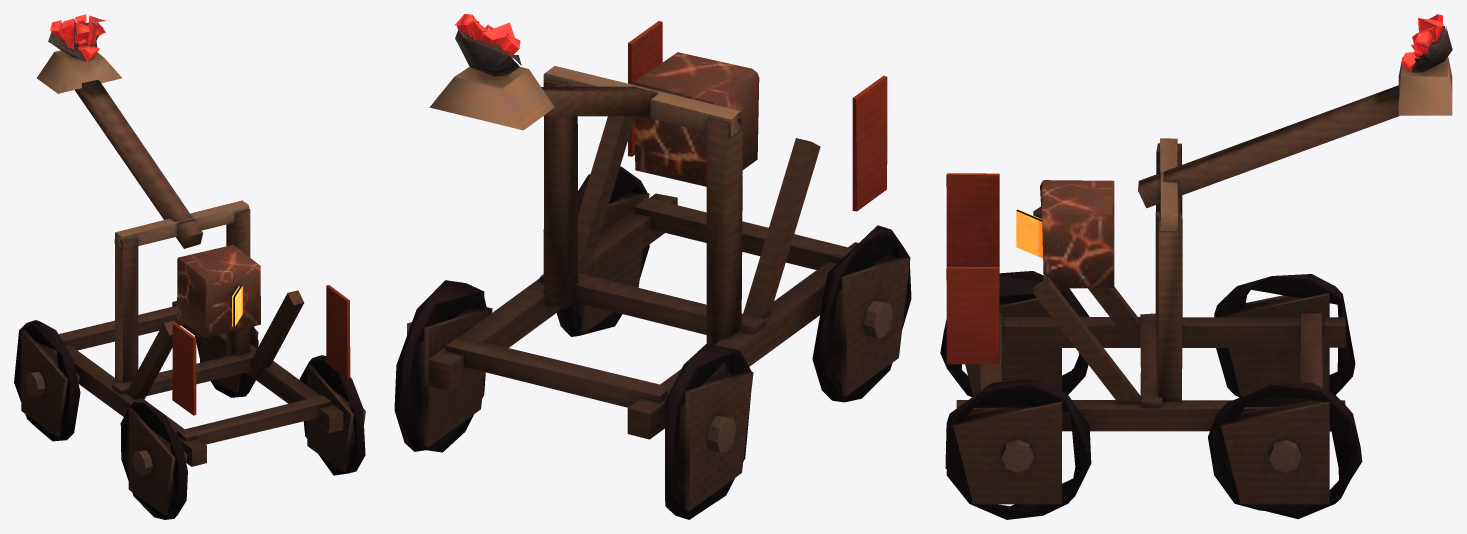
The model's file is u_catapult_x_g.glb.
The picture shows the model from 3 angles, left to right: view 1: azimuth 30°, elevation 25°; view 2: azimuth 150°, elevation 25°; view 3: azimuth 270°, elevation 25°; orthographic projection. The views are drawn at different scales.
Parts seen in each view (by area): view 1: u_catapult_x; view 2: u_catapult_x; view 3: u_catapult_x.
Part boxes in pixels (left/top/right/bottom): u_catapult_x: left=14, top=14, right=365, bottom=519; u_catapult_x: left=394, top=14, right=911, bottom=519; u_catapult_x: left=940, top=14, right=1452, bottom=519.
Size of the model in its own units: 1.68 by 2.75 by 2.87.
2 materials, 2 textured.
